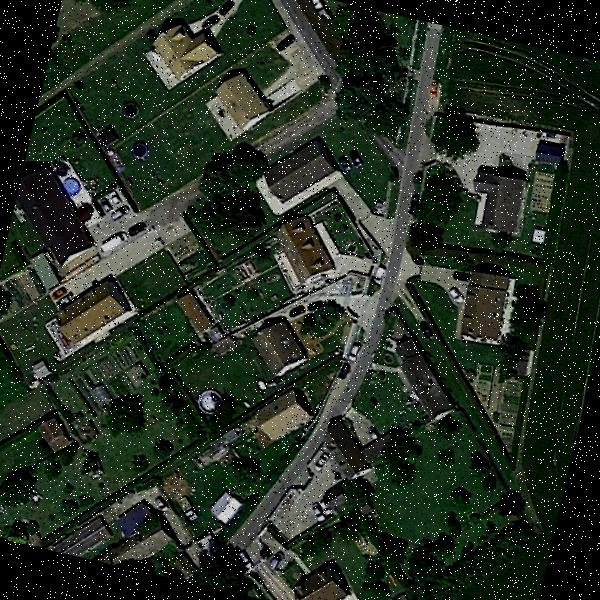Buildings: (7, 154, 106, 274), (380, 338, 459, 430), (50, 274, 128, 356), (148, 10, 223, 82), (458, 271, 520, 344), (465, 171, 532, 238), (272, 219, 331, 292), (247, 381, 309, 449), (272, 137, 333, 200), (213, 70, 273, 131), (286, 557, 354, 600), (39, 418, 66, 448)
